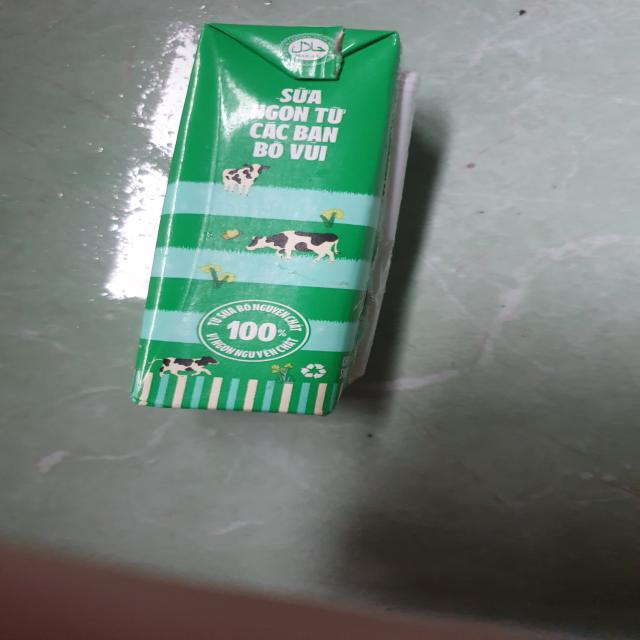Vina: (125, 19, 424, 422)
